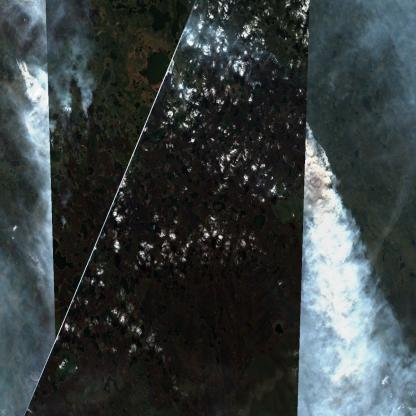fire: (294, 114, 333, 200), (8, 41, 30, 78)
